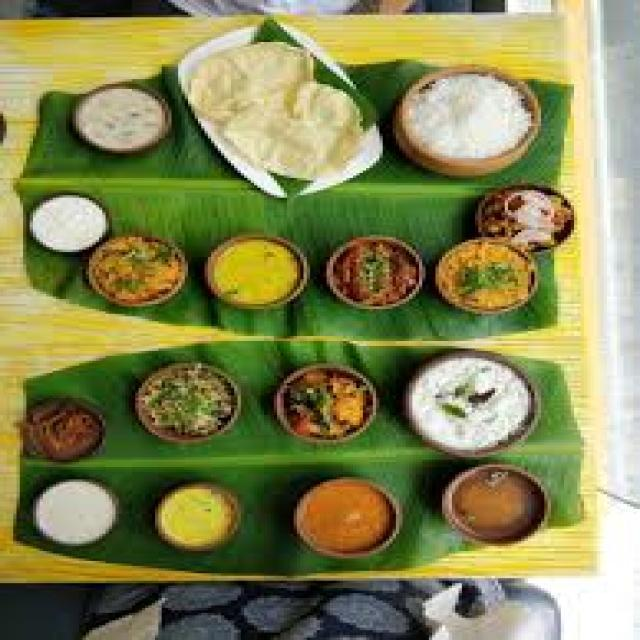curd: (19, 195, 120, 255)
papad: (172, 40, 370, 180)
rice: (387, 70, 553, 172)
sambar-rasam: (291, 476, 396, 554), (443, 471, 544, 538)
sweet: (69, 91, 175, 150)
veg: (268, 370, 384, 440)
veg-fry: (316, 237, 429, 307)
